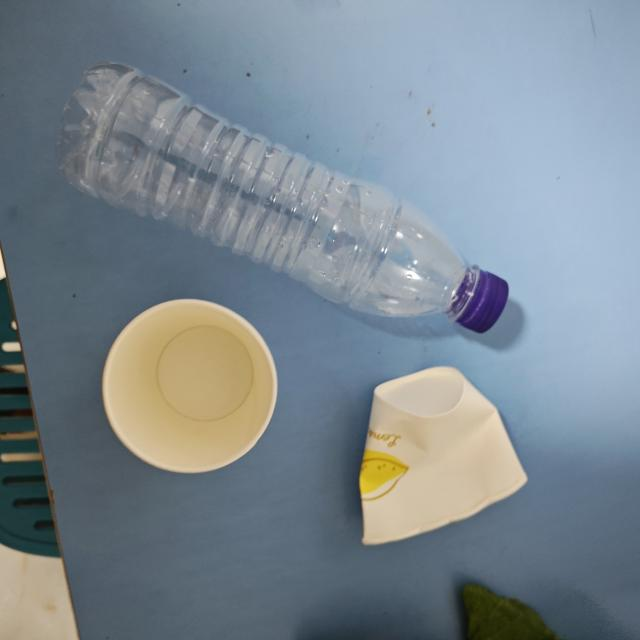-Recyclables - paper cup-: (100, 296, 280, 478), (358, 362, 532, 548)
-Recyclables - plastic bottle-: (59, 58, 513, 332)
